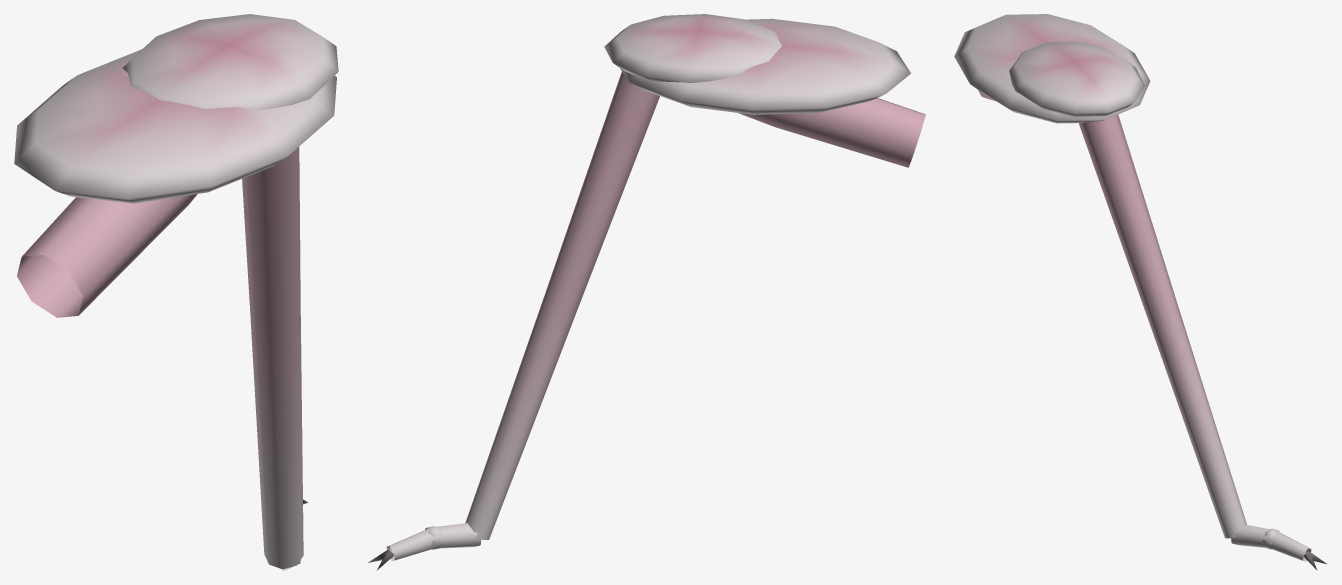
Rendered from Hanakamakiri_Leg1.fbx.
3 views of the same model, side by side, from view 1: azimuth 30°, elevation 25°; view 2: azimuth 150°, elevation 25°; view 3: azimuth 270°, elevation 25° (orthographic). The views are drawn at different scales.
Visible parts, largest first — view 1: Hanakamakiri_Leg1; view 2: Hanakamakiri_Leg1; view 3: Hanakamakiri_Leg1.
Part boxes in pixels (left/top/right/bottom): Hanakamakiri_Leg1: left=14, top=14, right=338, bottom=570; Hanakamakiri_Leg1: left=368, top=14, right=925, bottom=570; Hanakamakiri_Leg1: left=954, top=14, right=1326, bottom=570.
Size of the model in its own units: 0.3245 by 0.3914 by 0.311.
